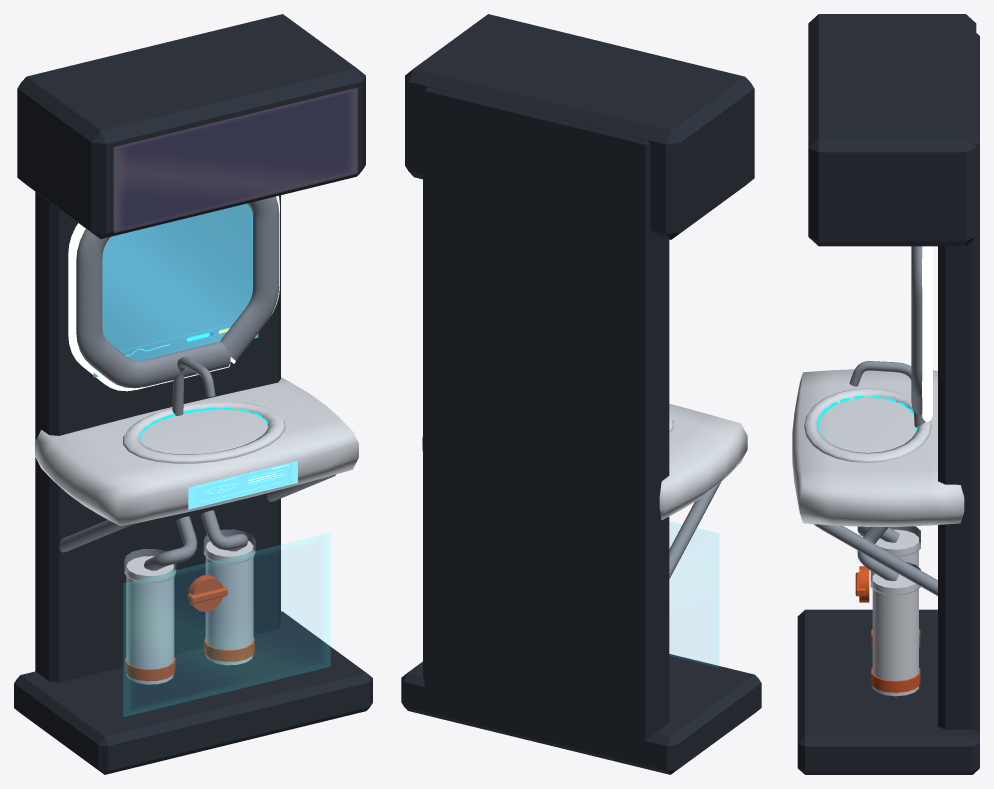
Rendered from vanity_r1_02.glb.
3 renders of one model, left to right at view 1: azimuth 30°, elevation 25°; view 2: azimuth 150°, elevation 25°; view 3: azimuth 270°, elevation 25°, orthographic.
Parts seen in each view (by area): view 1: Vanity02_CarbonSlateVerticalSpine, Vanity02_CantileveredWhiteBasinPod, Vanity02_OverheadUVTranslucentDoor, Vanity02_FloatingHaloSmartMirror, Vanity02_MachinedCantileverAndSyphons, Vanity02_LowerSyphonTranslucentShield, Vanity02_FrontBasinOLEDReadout, Vanity02_SignalOrangePurgeValve, Vanity02_HaloMirrorIceWhiteRing; view 2: Vanity02_CarbonSlateVerticalSpine, Vanity02_CantileveredWhiteBasinPod, Vanity02_LowerSyphonTranslucentShield, Vanity02_MachinedCantileverAndSyphons; view 3: Vanity02_CarbonSlateVerticalSpine, Vanity02_CantileveredWhiteBasinPod, Vanity02_MachinedCantileverAndSyphons, Vanity02_HaloMirrorIceWhiteRing, Vanity02_SignalOrangePurgeValve.
Part boxes in pixels (bbox=[...]): Vanity02_CarbonSlateVerticalSpine: bbox=[14, 14, 372, 774]; Vanity02_CantileveredWhiteBasinPod: bbox=[35, 377, 358, 684]; Vanity02_OverheadUVTranslucentDoor: bbox=[114, 88, 356, 232]; Vanity02_FloatingHaloSmartMirror: bbox=[93, 203, 258, 377]; Vanity02_MachinedCantileverAndSyphons: bbox=[59, 196, 335, 583]; Vanity02_LowerSyphonTranslucentShield: bbox=[124, 533, 329, 716]; Vanity02_FrontBasinOLEDReadout: bbox=[188, 460, 297, 509]; Vanity02_SignalOrangePurgeValve: bbox=[125, 575, 254, 681]; Vanity02_HaloMirrorIceWhiteRing: bbox=[68, 196, 279, 391]; Vanity02_CarbonSlateVerticalSpine: bbox=[401, 14, 761, 774]; Vanity02_CantileveredWhiteBasinPod: bbox=[422, 403, 747, 519]; Vanity02_LowerSyphonTranslucentShield: bbox=[670, 522, 718, 666]; Vanity02_MachinedCantileverAndSyphons: bbox=[669, 482, 720, 578]; Vanity02_CarbonSlateVerticalSpine: bbox=[797, 14, 979, 774]; Vanity02_CantileveredWhiteBasinPod: bbox=[792, 369, 964, 696]; Vanity02_MachinedCantileverAndSyphons: bbox=[813, 246, 938, 595]; Vanity02_HaloMirrorIceWhiteRing: bbox=[922, 246, 932, 421]; Vanity02_SignalOrangePurgeValve: bbox=[855, 566, 920, 692].
Size of the model in its own units: 0.9 by 2 by 0.542.
Materials: 12 (12 with a texture image).
